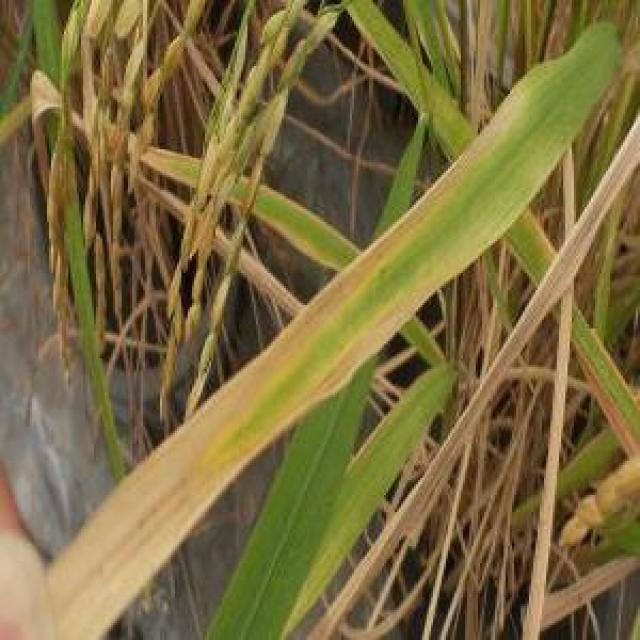Bacterial_Blight: (0, 76, 529, 640)
